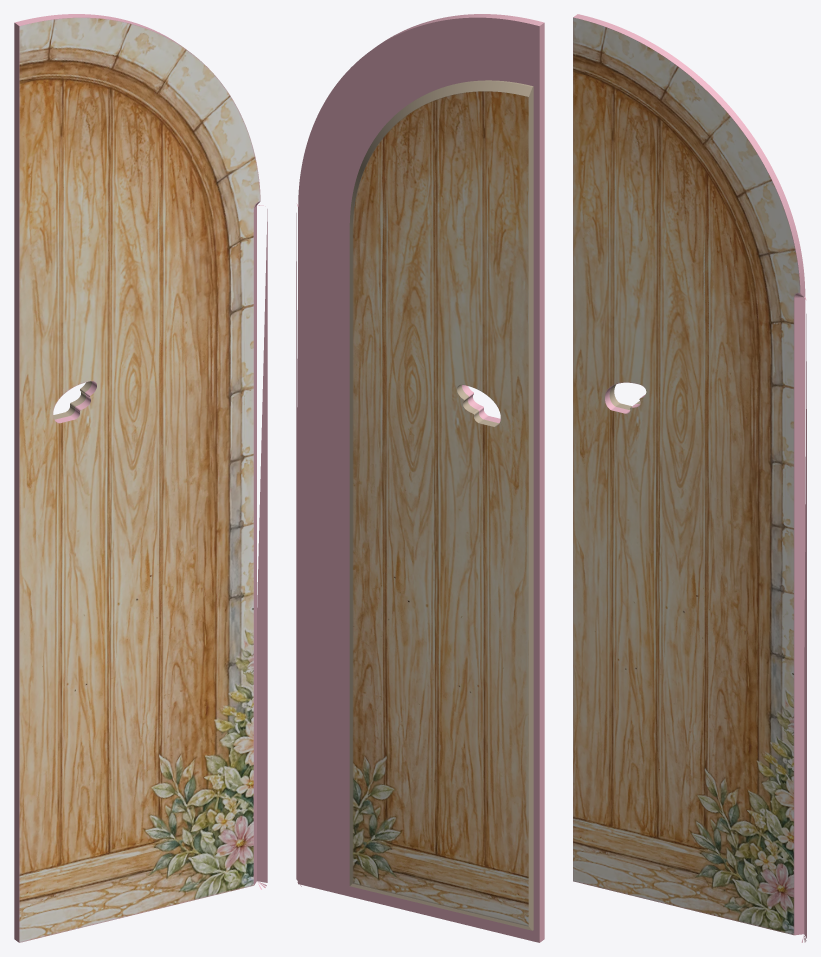
Rendered from p005-door-leaf.glb.
The picture shows the model from 3 angles, left to right: view 1: azimuth 30°, elevation 25°; view 2: azimuth 150°, elevation 25°; view 3: azimuth 330°, elevation 25°; orthographic projection. The views are drawn at different scales.
Parts seen in each view (by area): view 1: p005-door-leaf; view 2: p005-door-leaf; view 3: p005-door-leaf.
Boxes of the visible parts, left/top/right/bottom form: p005-door-leaf: left=14, top=14, right=267, bottom=942; p005-door-leaf: left=296, top=14, right=544, bottom=942; p005-door-leaf: left=573, top=14, right=806, bottom=942.
Size of the model in its own units: 259 by 920 by 18.
Materials: 4 (2 with a texture image).
